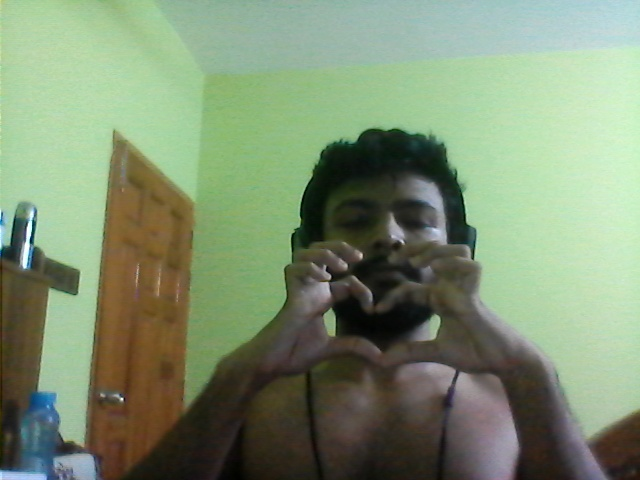Love: (230, 237, 549, 374)
